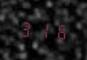one: (35, 19, 50, 40)
six: (51, 20, 66, 41)
three: (18, 18, 33, 39)
